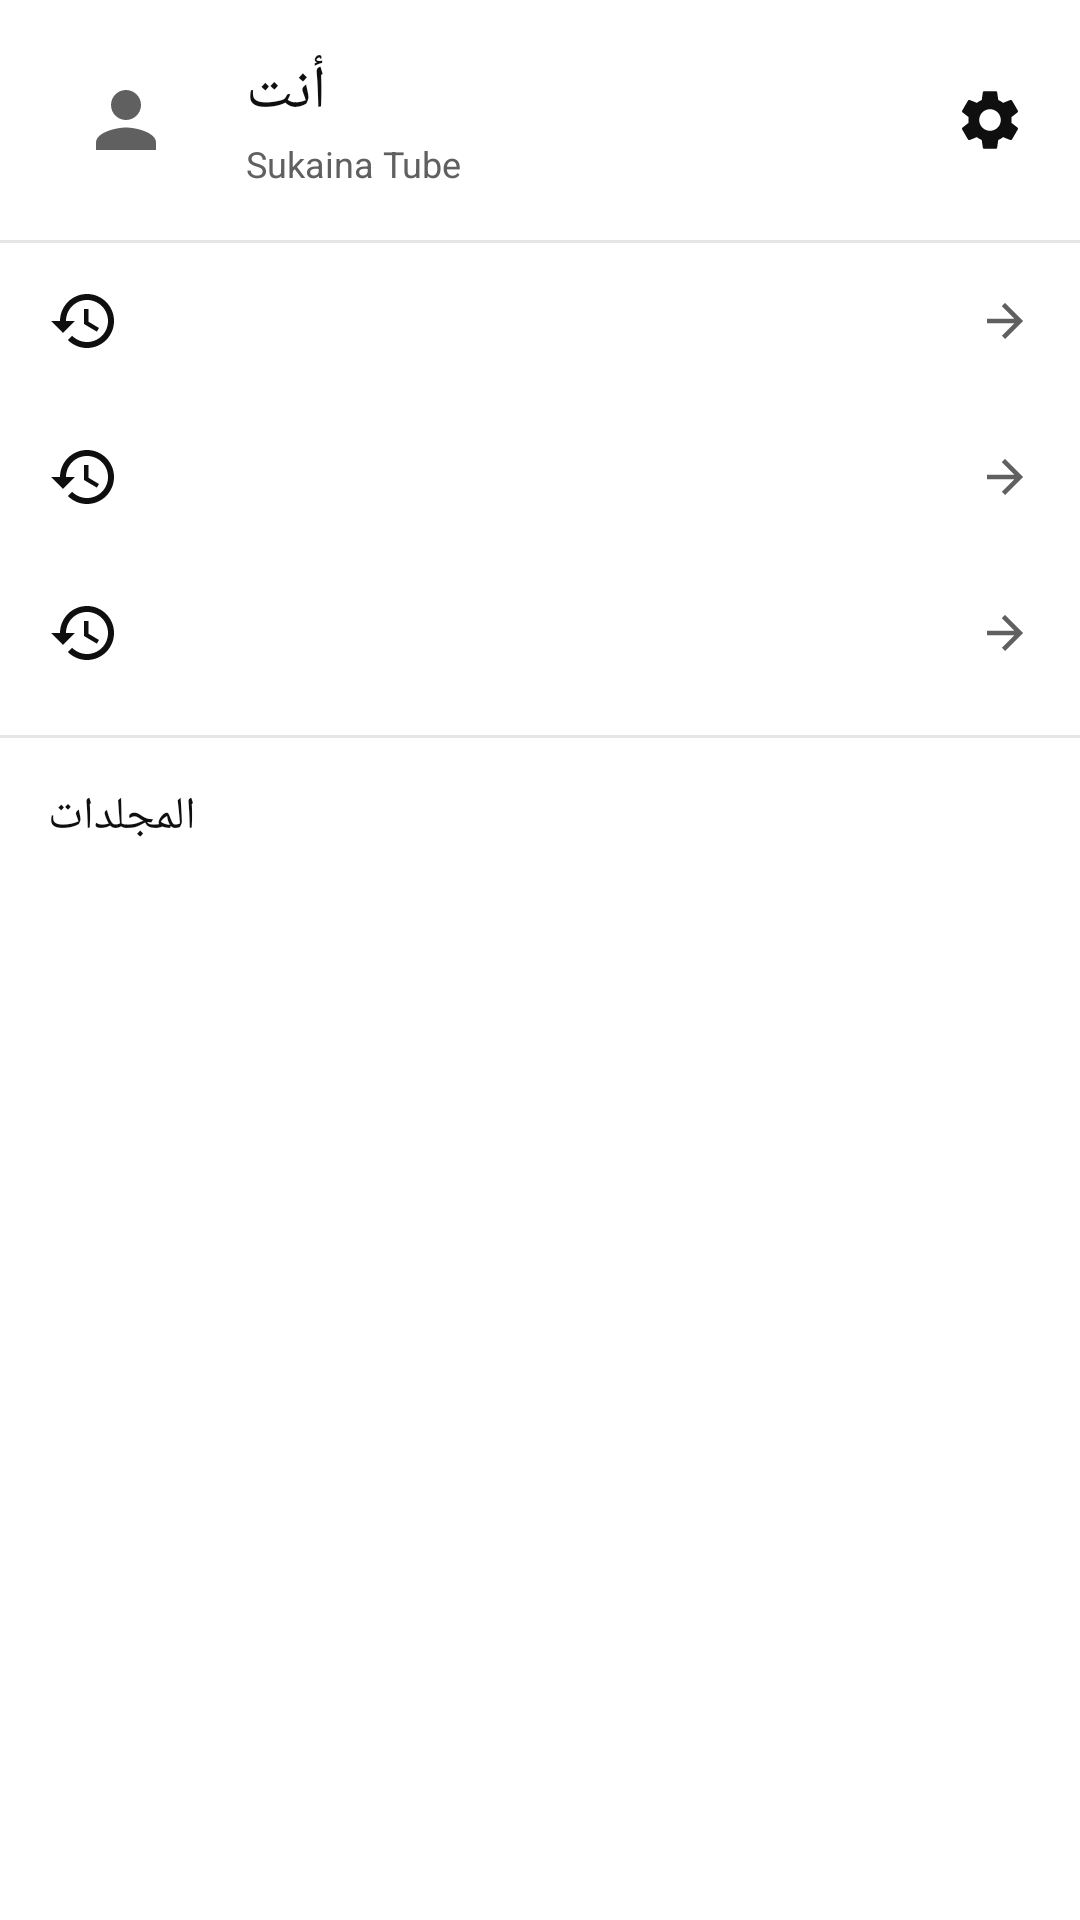

Screen size 1080×1920. Icon name, then its box in pixels as box(x1, y1, x2, y2):
arrow forward: box(987, 303, 1023, 339), box(987, 459, 1023, 495), box(987, 615, 1023, 651)
history: box(51, 294, 114, 348), box(51, 450, 114, 504), box(51, 606, 114, 660)
الإعدادات: box(962, 91, 1018, 149)
